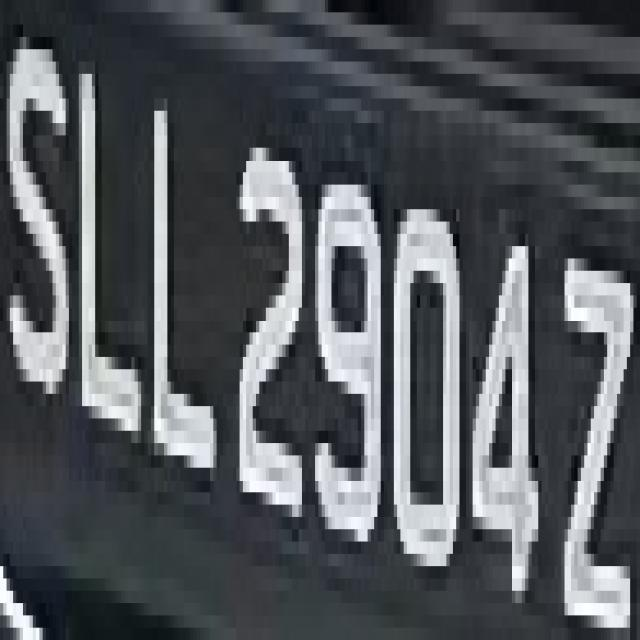0: (394, 172, 469, 603)
2: (230, 86, 318, 591)
4: (472, 148, 542, 615)
9: (305, 99, 384, 566)
L: (141, 37, 217, 492), (76, 49, 141, 456)
S: (3, 37, 69, 418)
Z: (3, 4, 3, 14)
